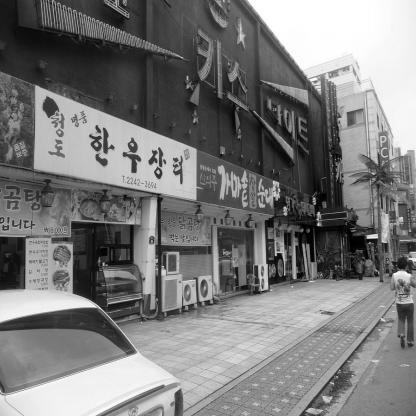car: (1, 276, 184, 416)
